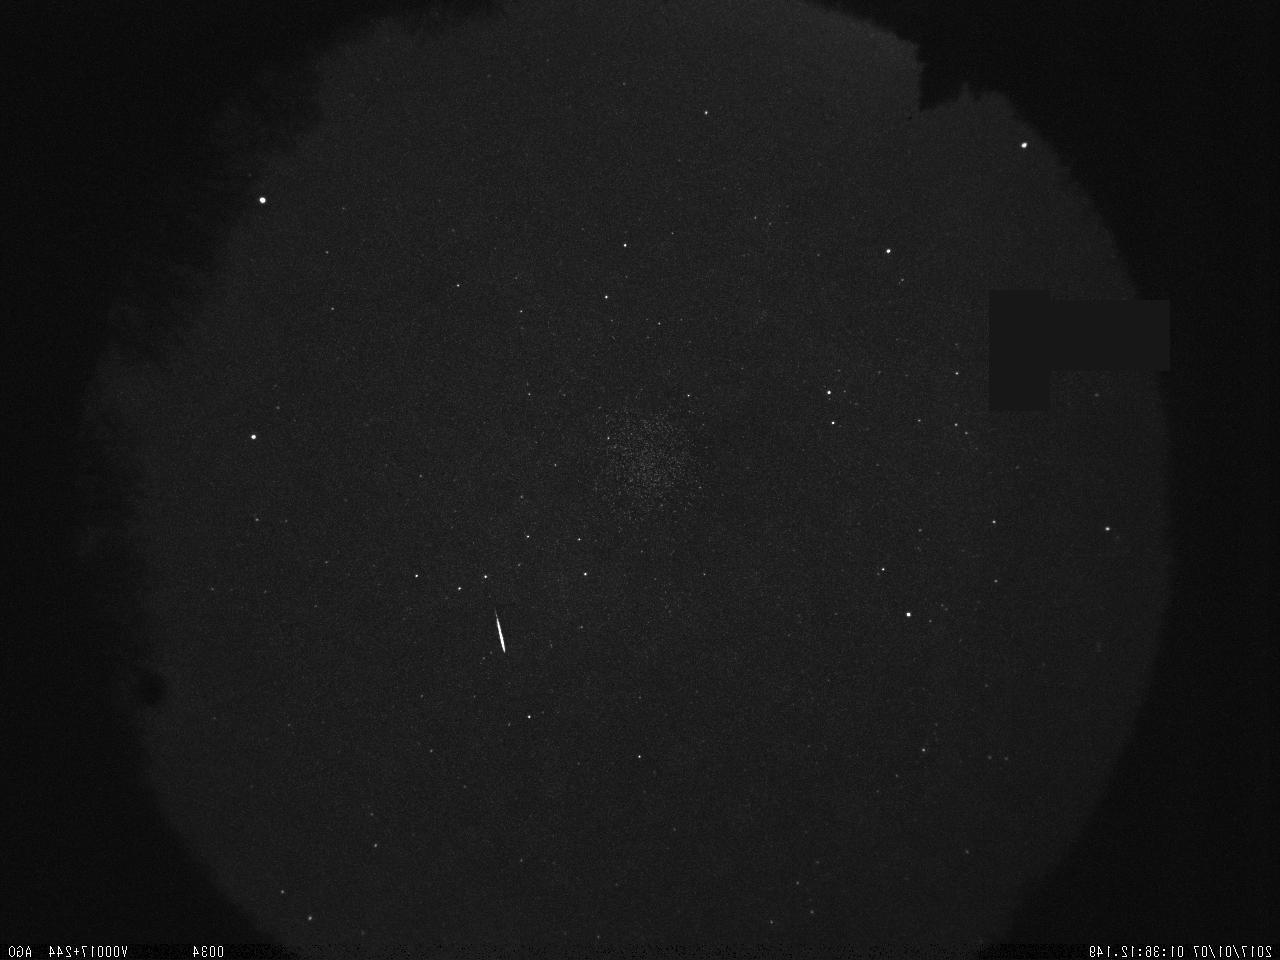meteor: (471, 603, 524, 664)
